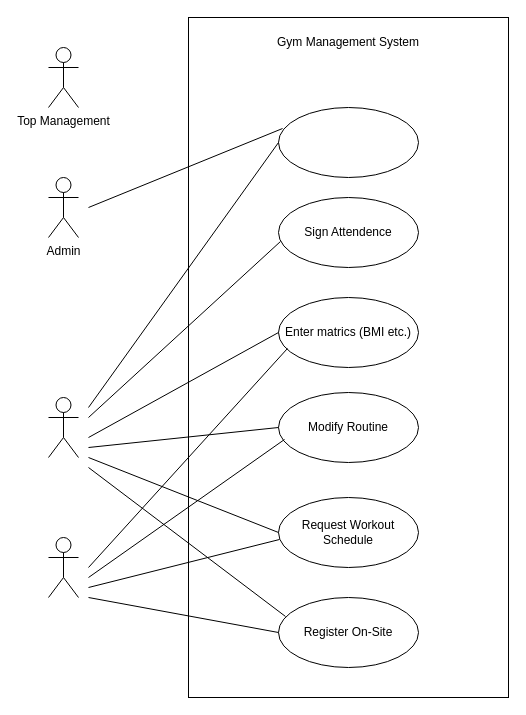
This 526x715 diagram has some shape labels left out. The shapes that lost their labels are listed below. From the top down, each one's centre as x and y in pixels, then its label:
At point 348,142: "Buy Subscription Online".
At point 63,427: "Member".
At point 63,567: "Instructor".
